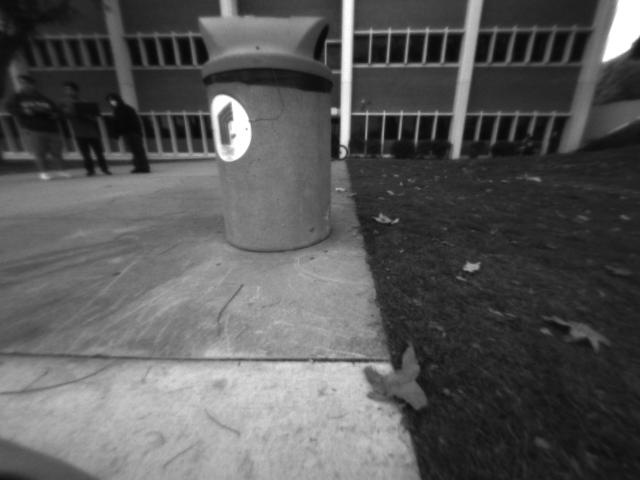trashcan: (189, 9, 350, 255)
